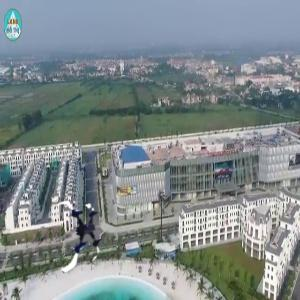drone: (44, 196, 115, 267)
